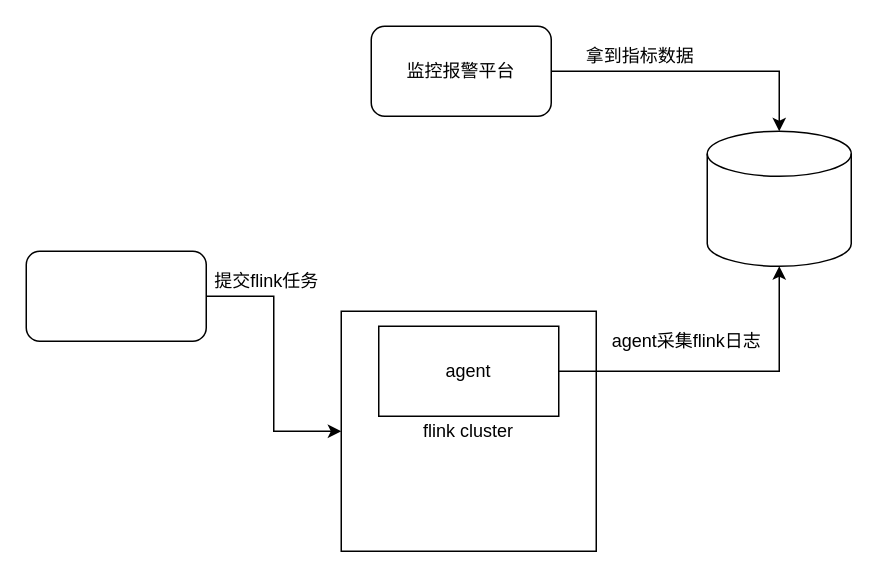
The diagram is 878 pixels wide and 578 high, and some of its shapes have lost their labels. The shapes that lost their labels are listed below. From the top down, each one's box as (x1, y1, x2, y2) in pixels, then its label:
(706, 130, 851, 266): prometheus
(25, 250, 206, 341): bos( 统一检索平台)
